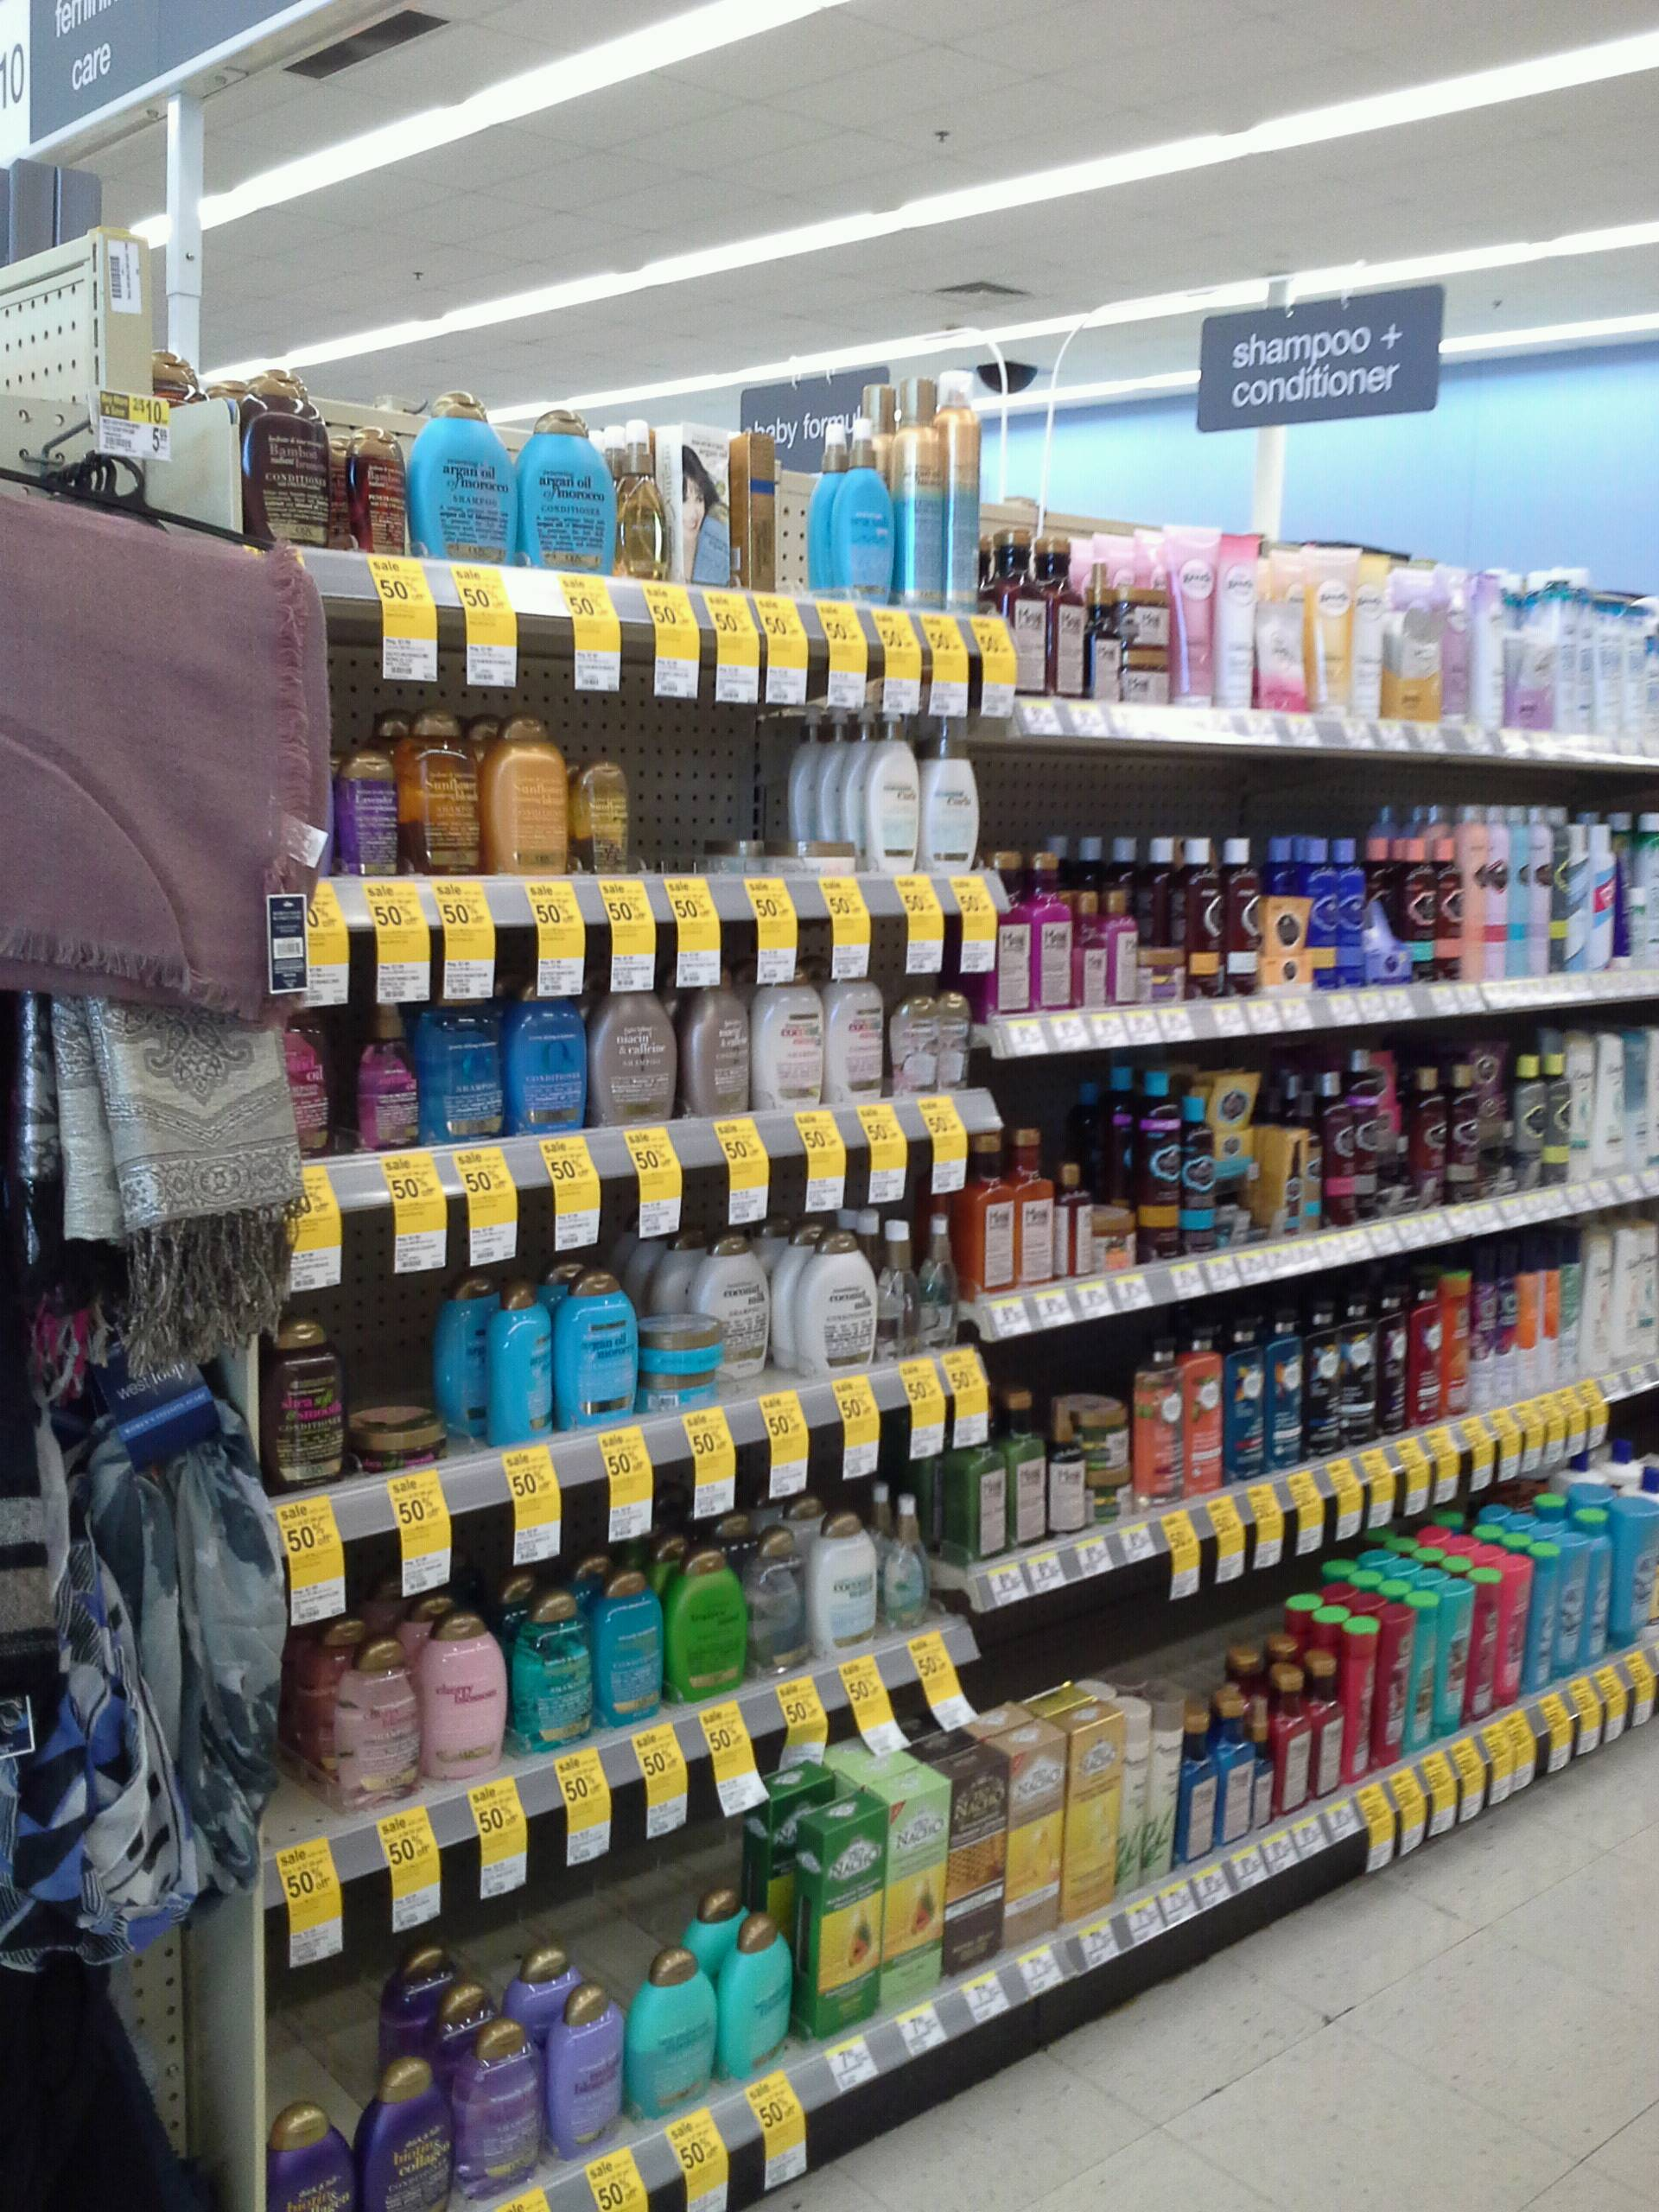Out-of-stock: (647, 700, 713, 914)
